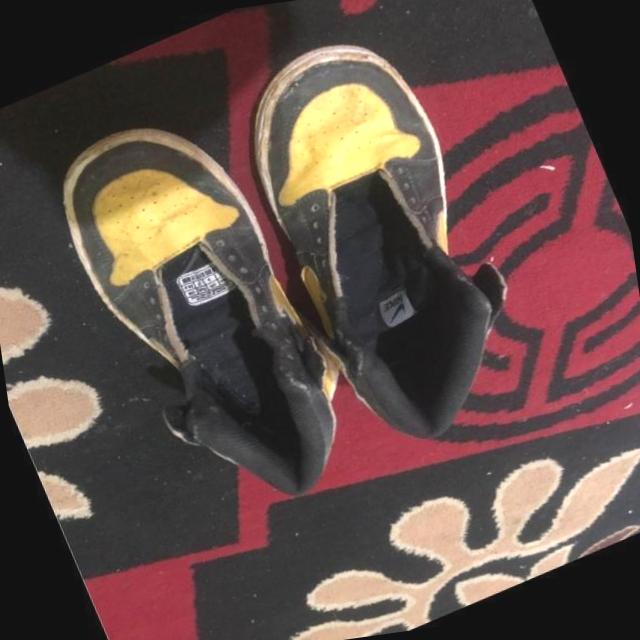nike_fake_jordan: (26, 76, 387, 562), (202, 0, 556, 483)
